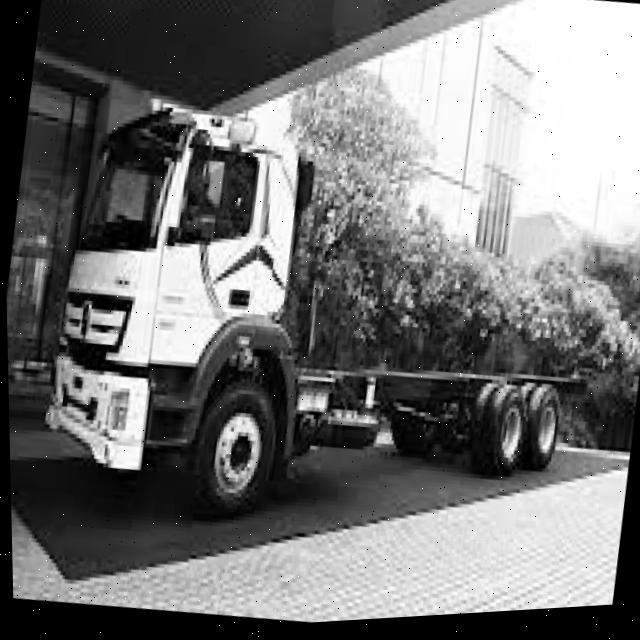truck: (6, 64, 349, 538)
